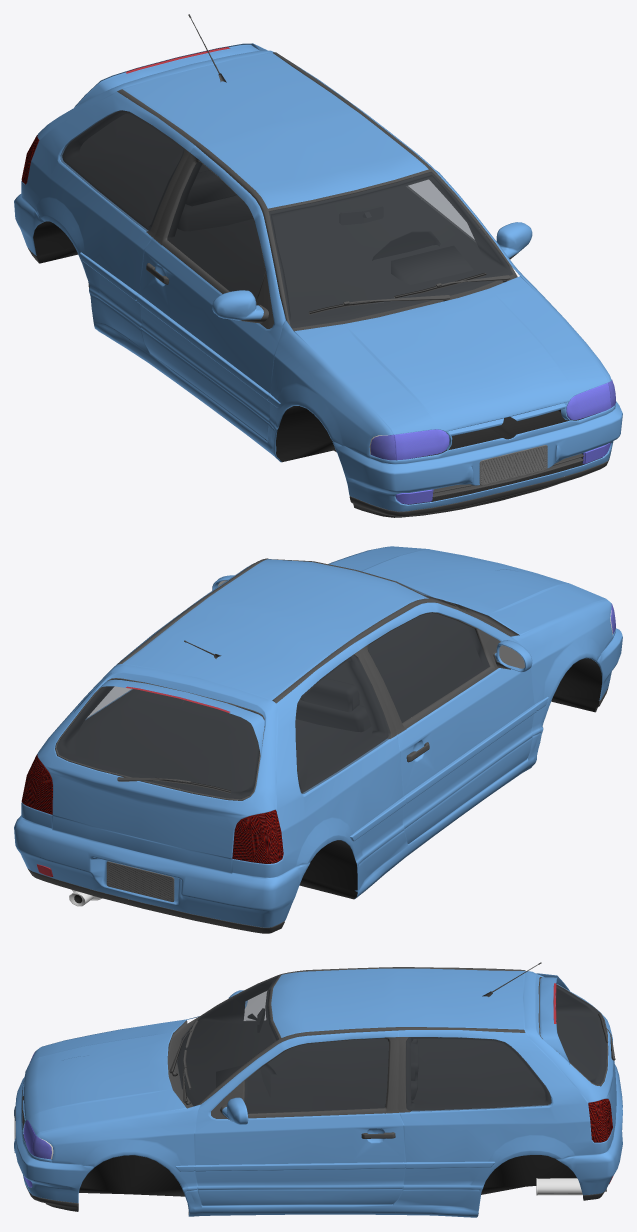
File: golg2.glb
3 views of the same model, one above another, from view 1: azimuth 30°, elevation 25°; view 2: azimuth 150°, elevation 25°; view 3: azimuth 270°, elevation 25° (orthographic). The views are drawn at different scales.
Parts seen in each view (by area): view 1: PAINT_q, Black_q, GLASS_q, Plastic_q, Gol_headlight_q, ezo_plate_q, Gol_cornerlight_q; view 2: PAINT_q, Black_q, GLASS_q, Plastic_q, Material001_q, ezo_plate_q, metal_q; view 3: PAINT_q, Black_q, GLASS_q, Plastic_q, Material001_q, metal_q.
Boxes of the visible parts, box(x1,y1,x2,y2) form: PAINT_q: box(14, 43, 622, 511); Black_q: box(33, 110, 611, 504); GLASS_q: box(60, 110, 513, 328); Plastic_q: box(28, 52, 609, 517); Gol_headlight_q: box(394, 383, 611, 504); ezo_plate_q: box(479, 445, 547, 485); Gol_cornerlight_q: box(370, 379, 615, 460); PAINT_q: box(14, 546, 622, 927); Black_q: box(56, 613, 601, 903); GLASS_q: box(56, 584, 489, 799); Plastic_q: box(28, 558, 608, 933); Material001_q: box(21, 754, 283, 863); ezo_plate_q: box(106, 861, 174, 901); metal_q: box(69, 580, 612, 906); PAINT_q: box(14, 968, 622, 1217); Black_q: box(22, 977, 607, 1214); GLASS_q: box(176, 976, 607, 1113); Plastic_q: box(25, 967, 615, 1211); Material001_q: box(588, 1099, 612, 1142); metal_q: box(40, 1138, 606, 1195).
Size of what is drawn, in the model's own units: 1.8 by 1.4 by 3.74.
11 materials, 4 textured.
